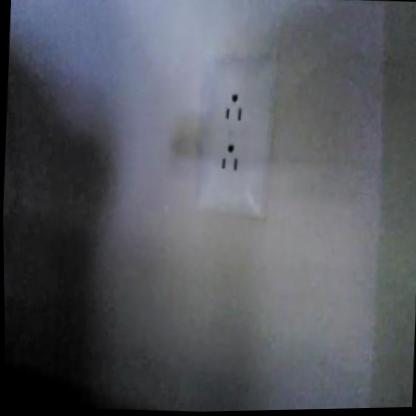OUTLET: (192, 51, 278, 221)
